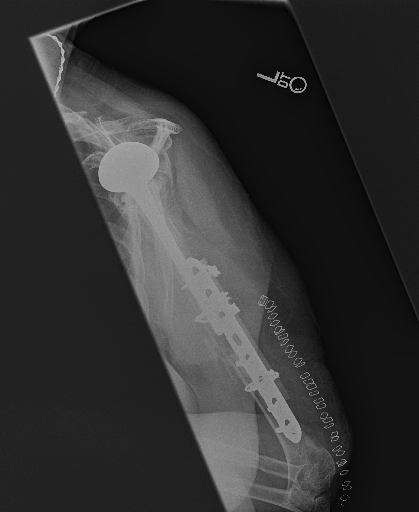implant: (180, 251, 310, 449)
